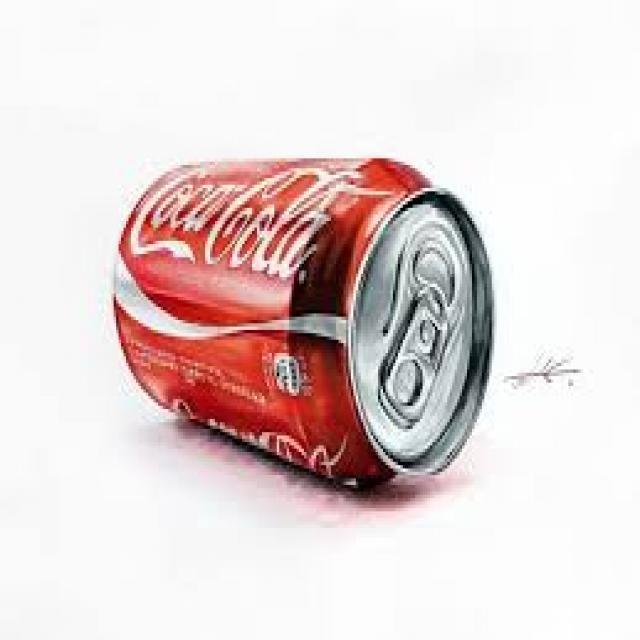coca-cola: (108, 152, 500, 500)
